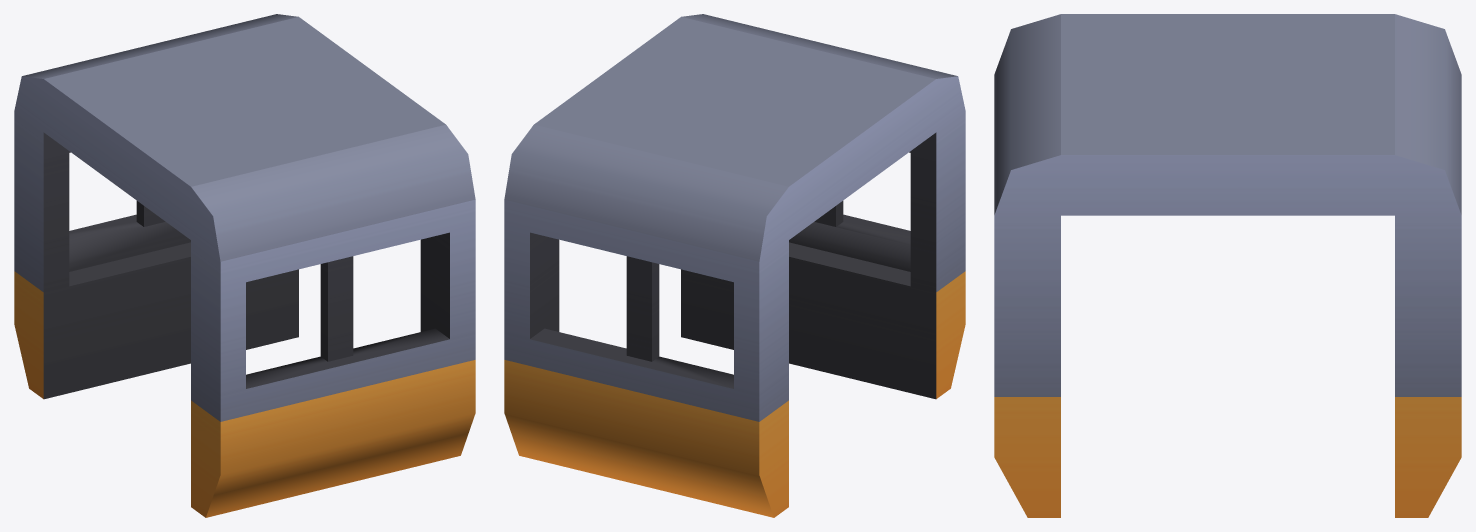
The picture shows the model from 3 angles, left to right: view 1: azimuth 30°, elevation 25°; view 2: azimuth 150°, elevation 25°; view 3: azimuth 270°, elevation 25°; orthographic projection. The views are drawn at different scales.
Visible parts, largest first — view 1: cover_stripe_bar; view 2: cover_stripe_bar; view 3: cover_stripe_bar.
Part boxes in pixels (bbox=[...]): cover_stripe_bar: bbox=[14, 14, 475, 517]; cover_stripe_bar: bbox=[504, 14, 965, 517]; cover_stripe_bar: bbox=[994, 14, 1461, 517].
Size of the model in its own units: 1 by 1.2 by 1.4.
Materials: 1 (1 with a texture image).
